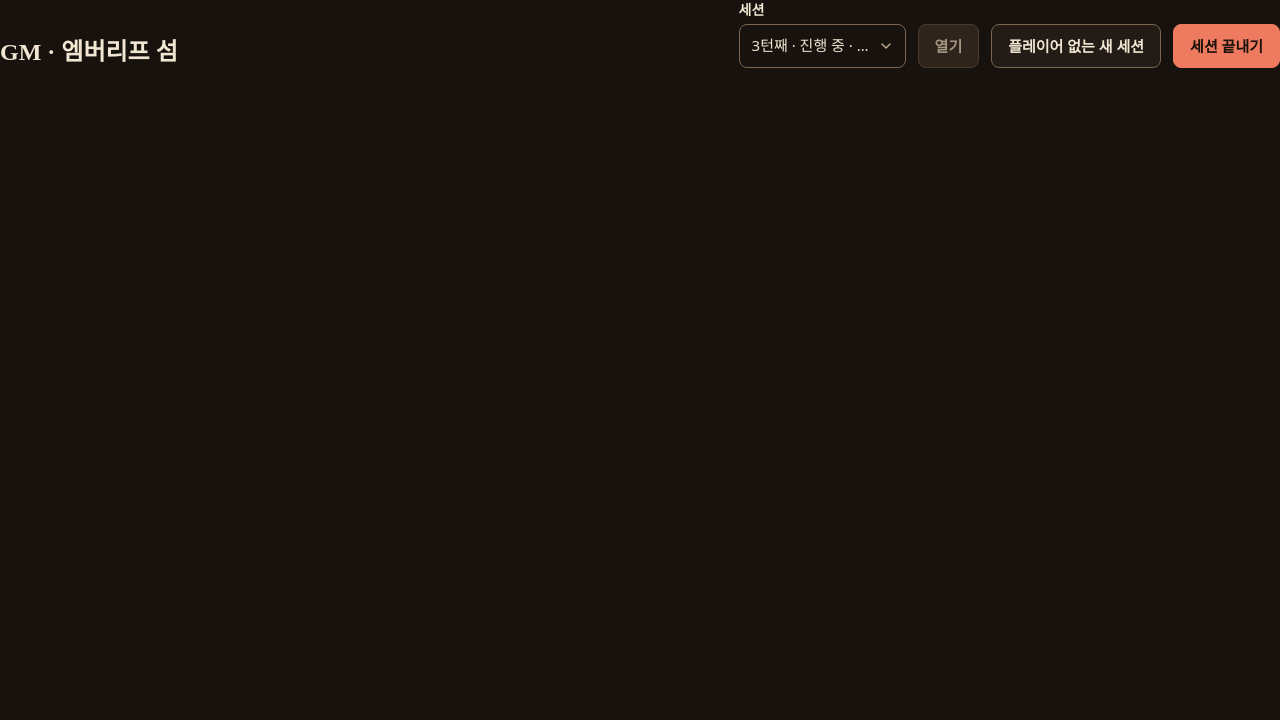
Test: GmHeader (BR-V6-13/26, TP-V6-10) › ends a session only after asking; a refused end stays in the dialog with the sentence
Expected: the heading "GM · 엠버리프 섬" is shown, [0, 39, 178, 65]
Click the button with test id "session-close-btn".
click(1227, 46)  # box [1173, 24, 1279, 68]
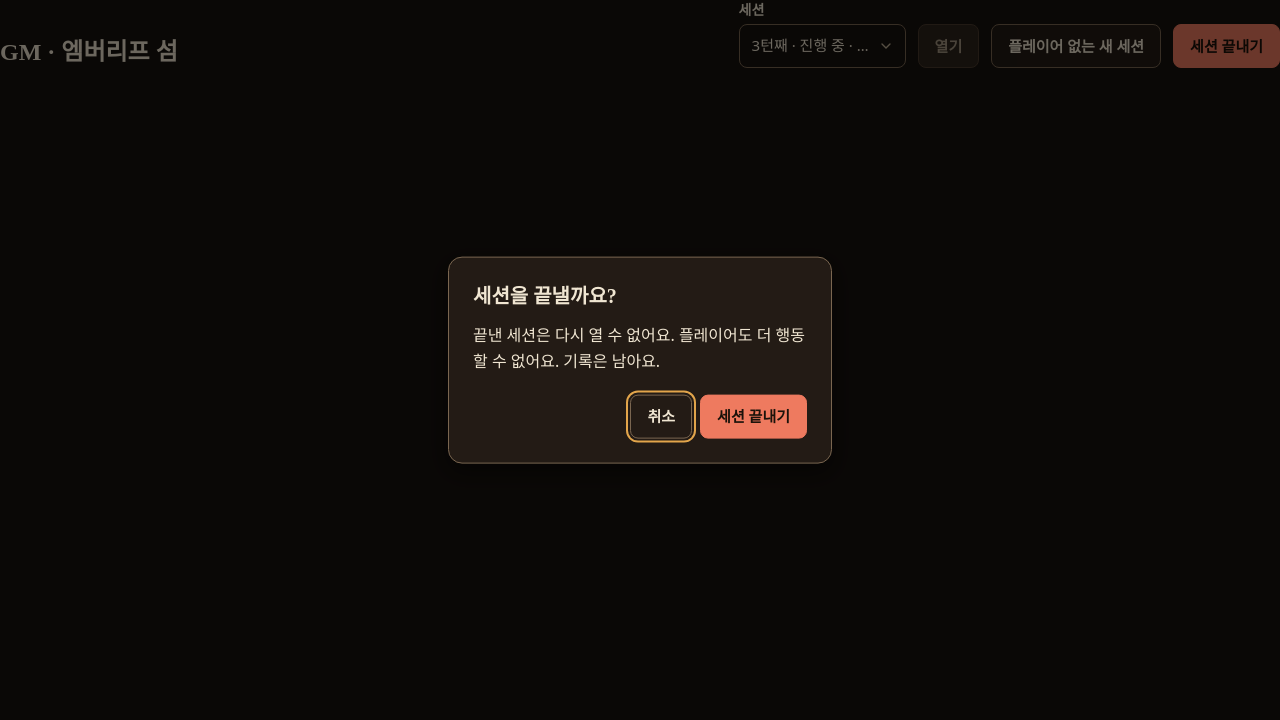
Click the button with test id "session-close-confirm".
click(754, 416)  # box [700, 394, 807, 438]
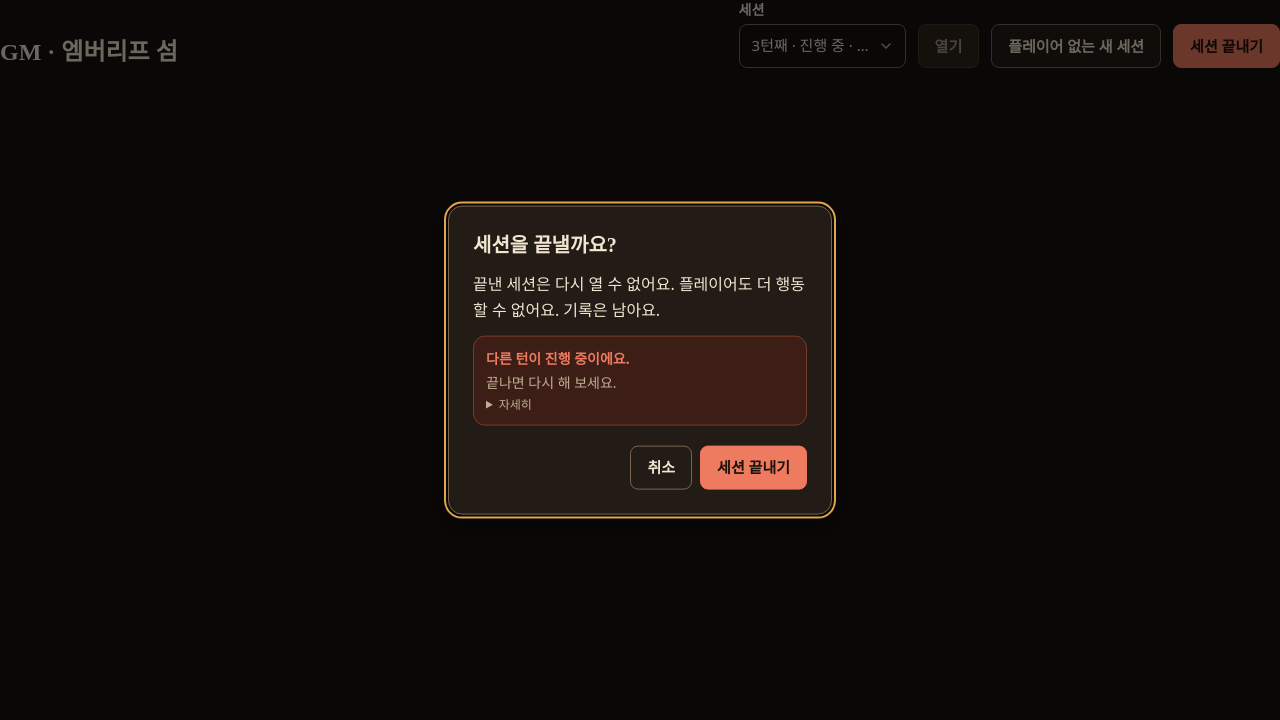
Expected: the message shows "다른 턴이 진행 중이에요.", [486, 348, 630, 367]
Click the button with test id "session-close-confirm".
click(754, 467)  # box [700, 445, 807, 489]
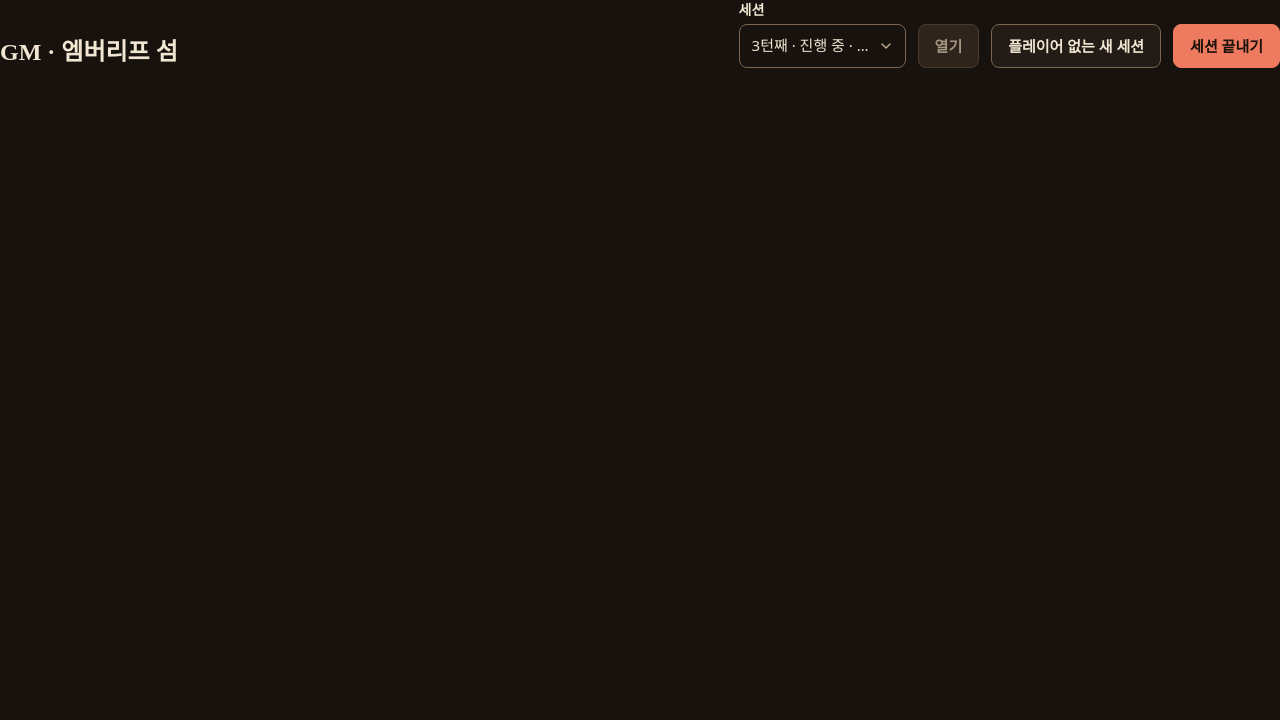
Expected: the dialog is gone
